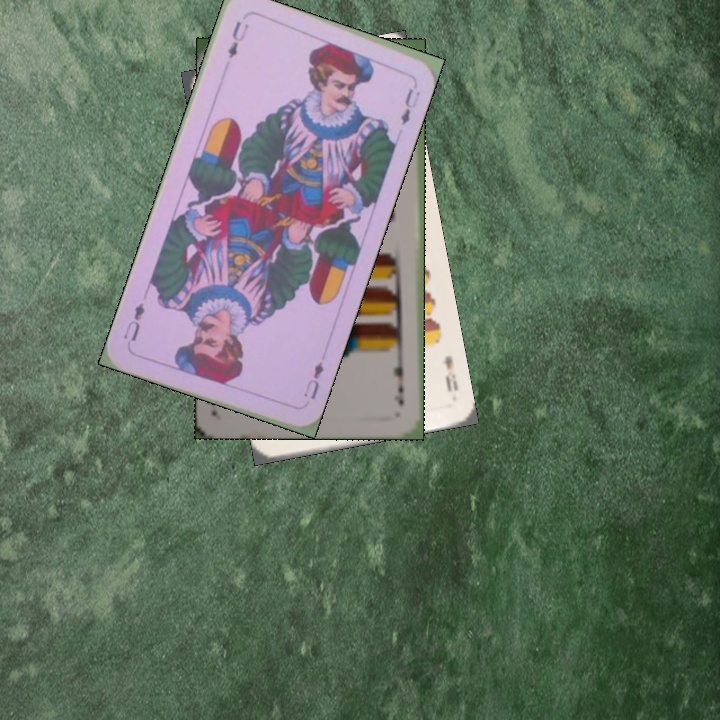E7: (390, 354, 406, 408)
E9: (437, 351, 461, 395)
EU: (299, 357, 327, 402), (223, 17, 251, 61)
